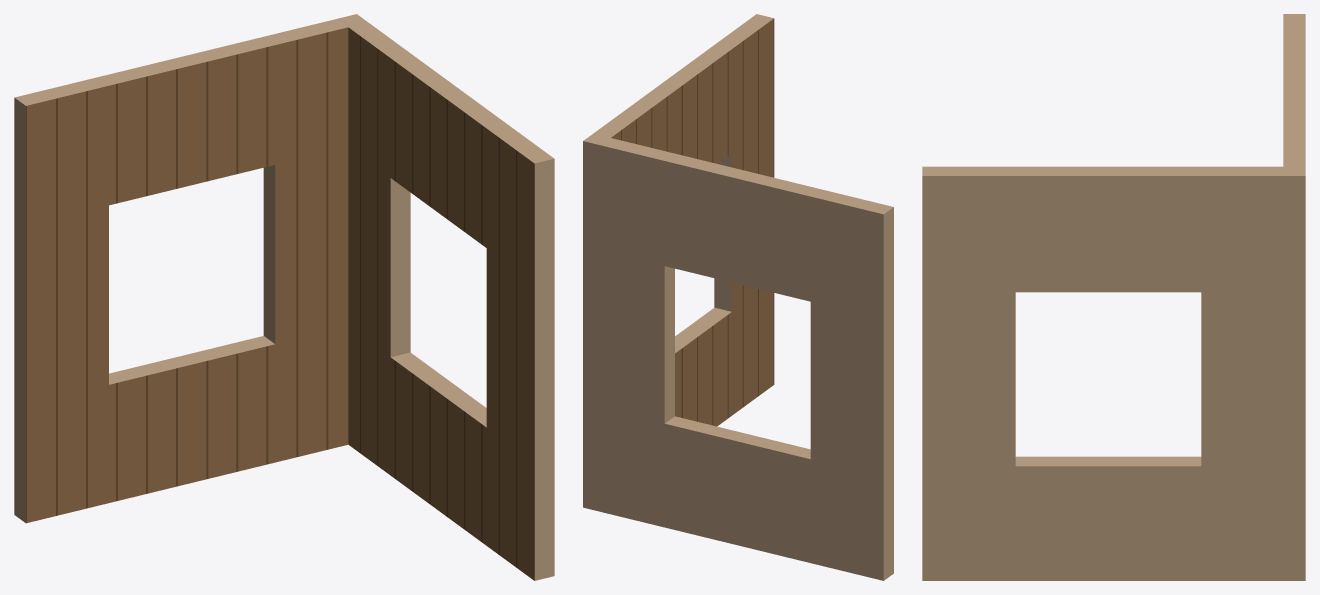
File: Wall2_C9_12.fbx
3 renders of one model, left to right at view 1: azimuth 30°, elevation 25°; view 2: azimuth 150°, elevation 25°; view 3: azimuth 270°, elevation 25°, orthographic. The views are drawn at different scales.
Visible parts, largest first — view 1: Wall2_C9_12; view 2: Wall2_C9_12; view 3: Wall2_C9_12.
Part boxes in pixels (x1,y1,x2,y2): Wall2_C9_12: (14, 14, 554, 580); Wall2_C9_12: (583, 14, 893, 580); Wall2_C9_12: (922, 14, 1305, 580).
Size of the model in its own units: 258 by 300 by 258.
